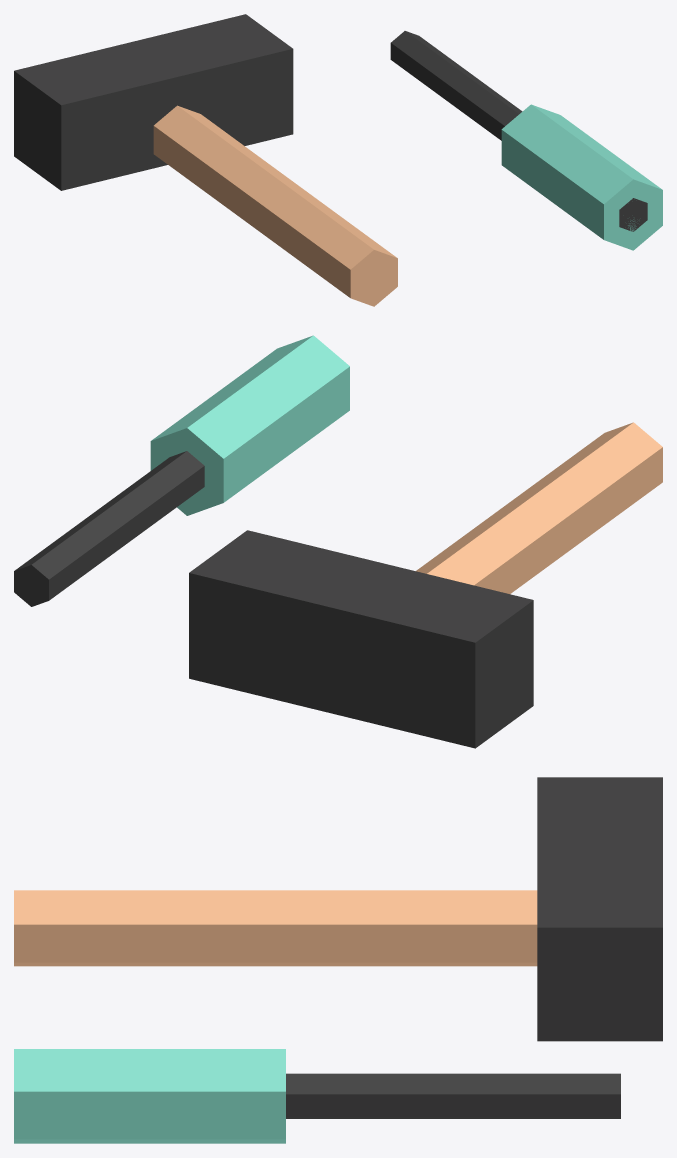
The picture shows the model from 3 angles, top to bottom: view 1: azimuth 30°, elevation 25°; view 2: azimuth 150°, elevation 25°; view 3: azimuth 270°, elevation 25°; orthographic projection. The views are drawn at different scales.
Visible parts, largest first — view 1: Hammer head, Hammer handle, Driver grip, Screwdriver; view 2: Hammer head, Driver grip, Hammer handle, Screwdriver; view 3: Hammer handle, Hammer head, Driver grip, Screwdriver.
Boxes of the visible parts, x1,y1,x2,y2 form: Hammer head: (14,14,293,190); Hammer handle: (153,105,397,306); Driver grip: (501,104,662,250); Screwdriver: (390,31,647,231); Hammer head: (189,530,533,748); Driver grip: (150,335,349,515); Hammer handle: (416,422,662,593); Screwdriver: (14,451,204,606); Hammer handle: (14,890,537,966); Hammer head: (537,777,662,1041); Driver grip: (14,1049,285,1143); Screwdriver: (286,1073,620,1118).
Size of the model in its own units: 29.67 by 6.5 by 31.
